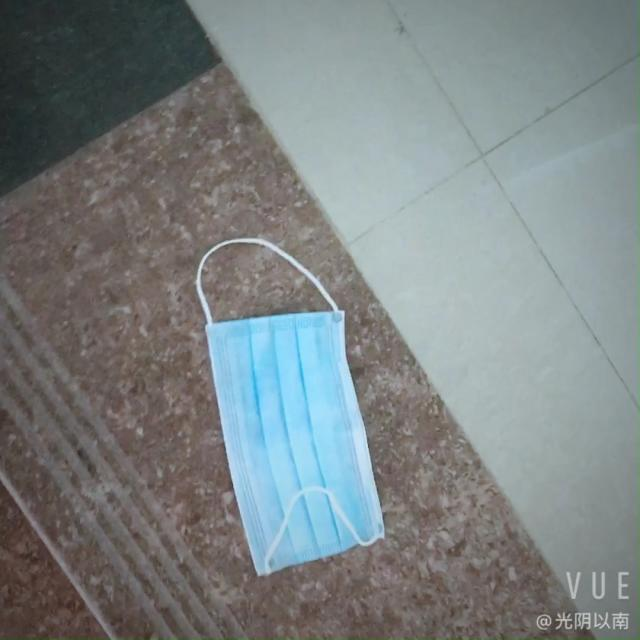face mask: (174, 293, 388, 580)
